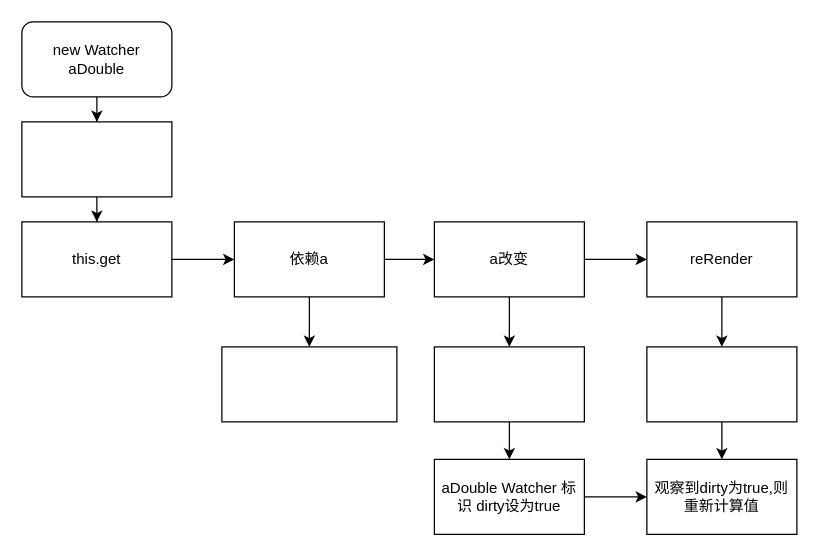
Image size: 819x556. Some labels were removed from this diagram. The centre of each missing label's shape, as x and y in pixels:
"render" goes at (x=96, y=159).
"触发aDouble getter" goes at (x=721, y=384).
"触发a的getter 将aDouble Watcher加入a的dep" goes at (x=309, y=384).
"触发a的setter 通知Dep" goes at (x=508, y=384).
